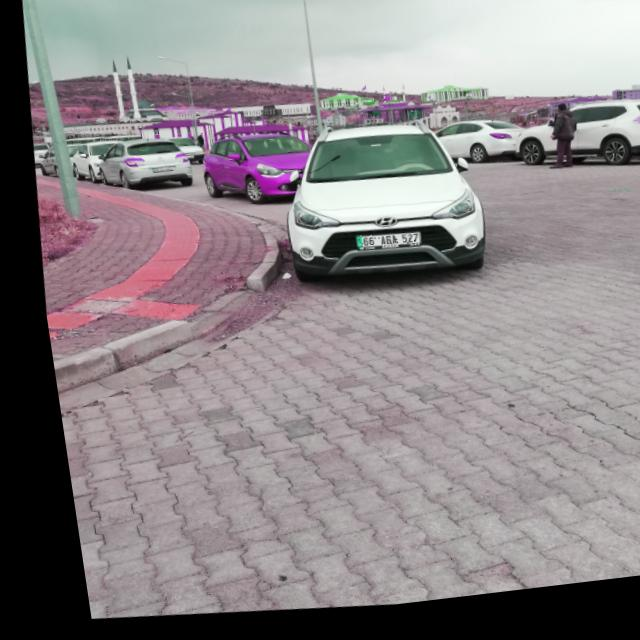license_plate: (346, 238, 413, 259)
